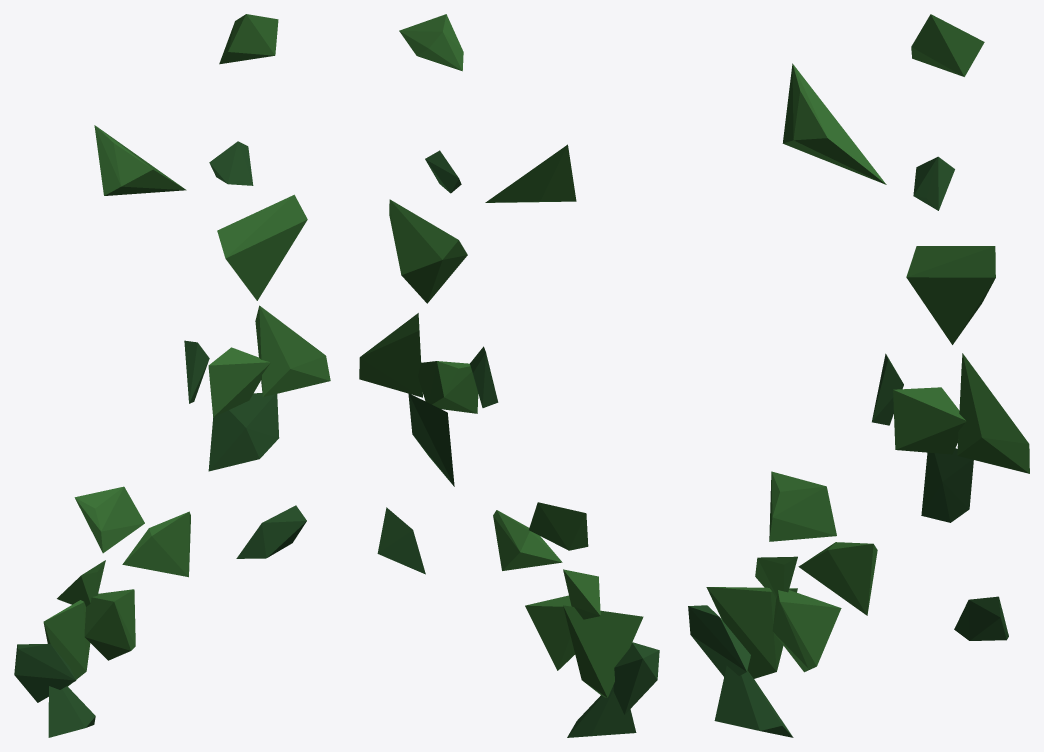
File: Ivy.fbx
The picture shows the model from 3 angles, left to right: view 1: azimuth 30°, elevation 25°; view 2: azimuth 150°, elevation 25°; view 3: azimuth 330°, elevation 25°; orthographic projection. The views are drawn at different scales.
Parts seen in each view (by area): view 1: Kit_Ivy; view 2: Kit_Ivy; view 3: Kit_Ivy.
Boxes of the visible parts, x1,y1,x2,y2 form: Kit_Ivy: (14, 14, 330, 737); Kit_Ivy: (359, 14, 659, 737); Kit_Ivy: (688, 14, 1029, 737).
Bounding box in the file's own units: 0.7636 × 1.62 × 0.0795.
